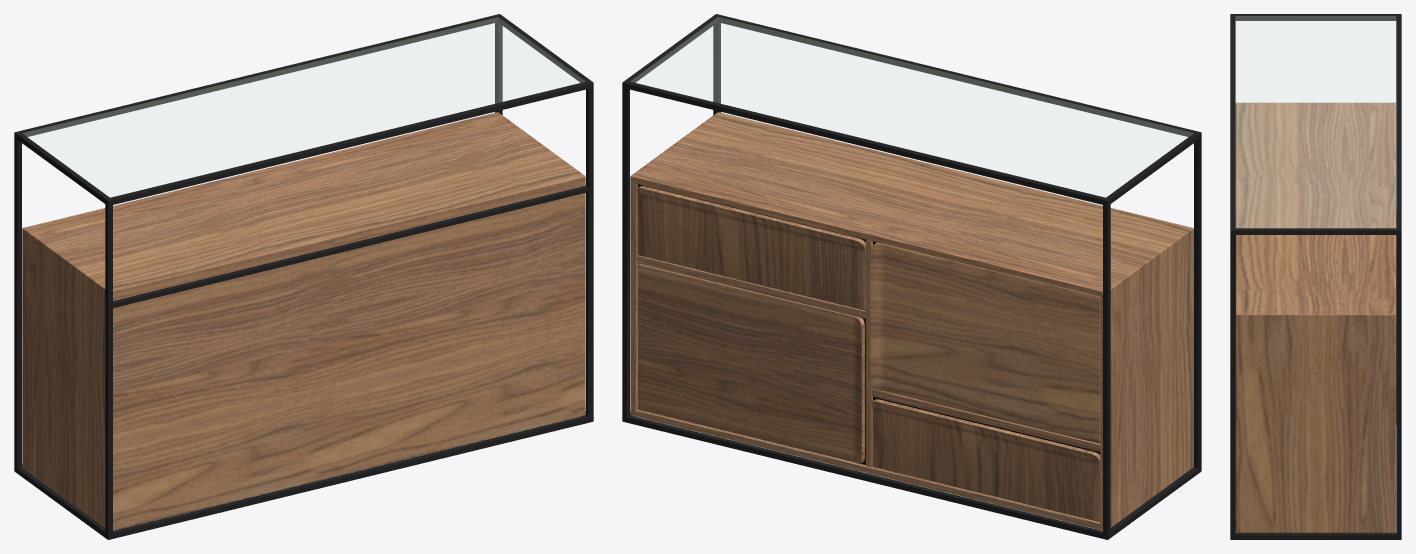
File: abo_B072ZNPRTC.glb
3 renders of one model, left to right at view 1: azimuth 30°, elevation 25°; view 2: azimuth 150°, elevation 25°; view 3: azimuth 270°, elevation 25°, orthographic. The views are drawn at different scales.
Visible parts, largest first — view 1: B072ZNPRTC; view 2: B072ZNPRTC; view 3: B072ZNPRTC.
Part boxes in pixels (box(x1,y1,x2,y2)): B072ZNPRTC: box(14, 14, 593, 539); B072ZNPRTC: box(622, 14, 1201, 539); B072ZNPRTC: box(1230, 14, 1401, 539).
Bounding box in the file's own units: 1.2 × 0.8001 × 0.4013.
Materials: 1 (1 with a texture image).
